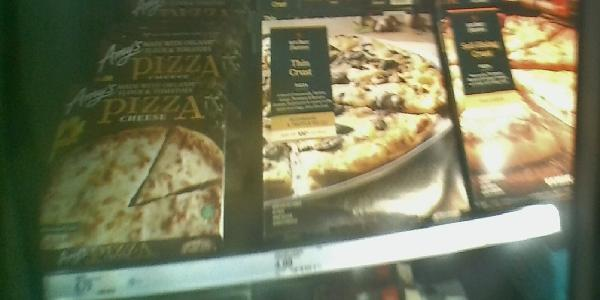pizza1: (255, 7, 475, 213), (31, 74, 231, 259)
